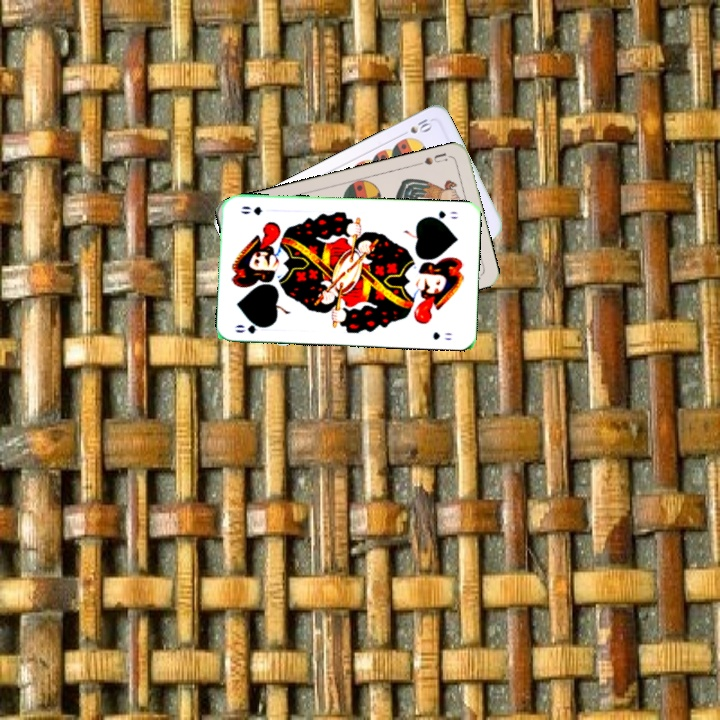GO: (231, 318, 272, 336), (423, 206, 461, 224)
S10: (396, 113, 435, 139)
SU: (413, 148, 450, 168)
